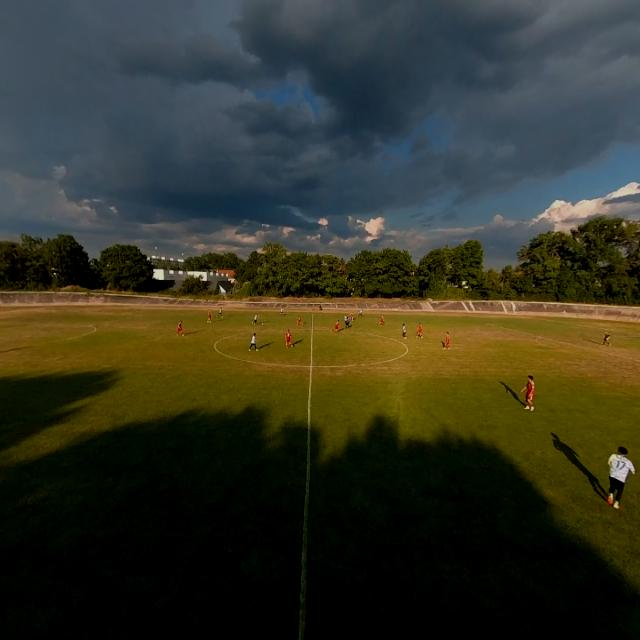ball: (261, 322, 264, 326)
